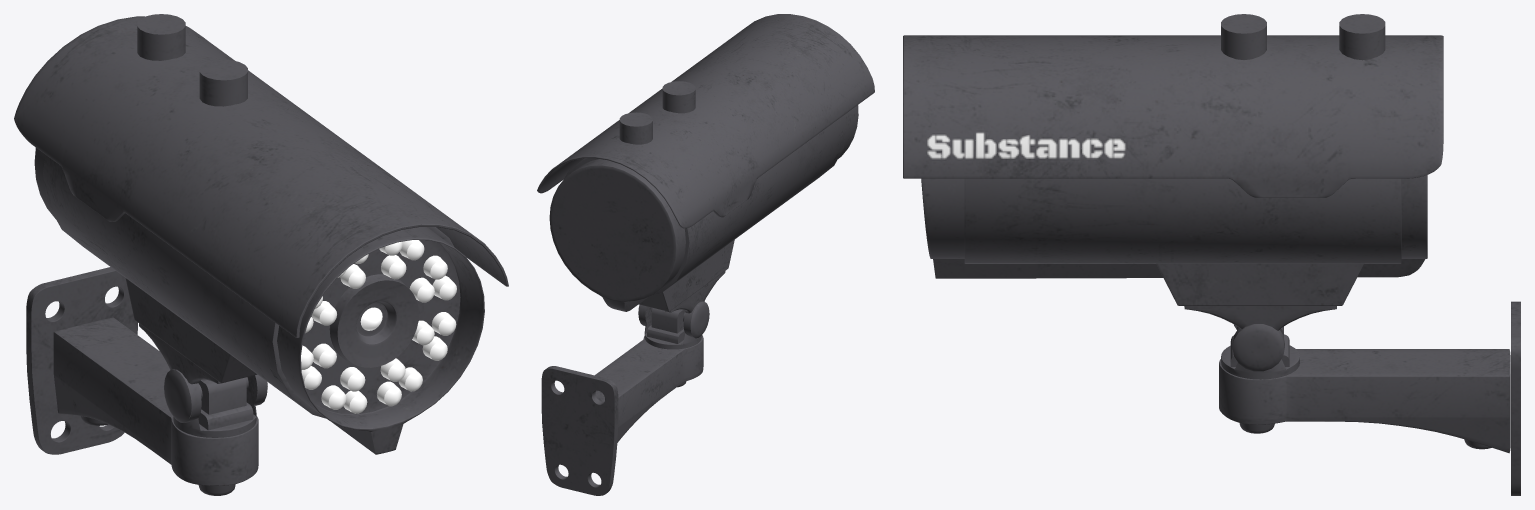
File: security_camera.glb
3 views of the same model, side by side, from view 1: azimuth 30°, elevation 25°; view 2: azimuth 150°, elevation 25°; view 3: azimuth 270°, elevation 25° (orthographic). The views are drawn at different scales.
Visible parts, largest first — view 1: Object_3, Object_4, Object_2; view 2: Object_3, Object_4; view 3: Object_3, Object_4, Object_2.
Boxes of the visible parts, x1,y1,x2,y2 form: Object_3: [14, 14, 506, 495]; Object_4: [31, 26, 508, 454]; Object_2: [198, 224, 508, 430]; Object_3: [537, 14, 874, 494]; Object_4: [541, 90, 734, 495]; Object_3: [903, 14, 1520, 495]; Object_4: [933, 26, 1510, 379]; Object_2: [903, 36, 1510, 451].
Bounding box in the file's own units: 79.52 × 170 × 208.
1 material, 1 textured.
